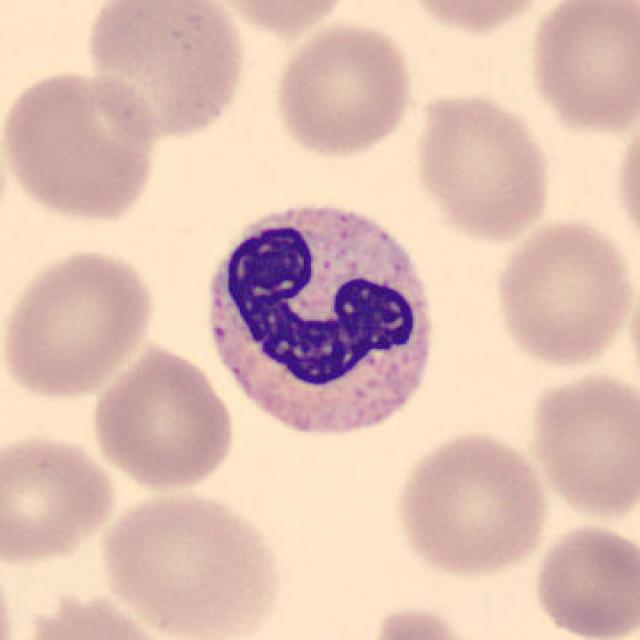Neutrophil: (190, 191, 446, 453)
RBC: (94, 485, 286, 638), (0, 65, 164, 226), (0, 243, 160, 402), (389, 427, 553, 580), (80, 0, 249, 143), (489, 213, 635, 372), (409, 88, 556, 245), (87, 342, 238, 494), (268, 18, 418, 160), (524, 365, 638, 524), (0, 428, 121, 568), (523, 0, 638, 138), (530, 520, 638, 640), (14, 589, 178, 640), (398, 0, 556, 37), (203, 0, 357, 37), (359, 603, 493, 640), (610, 108, 640, 258)
